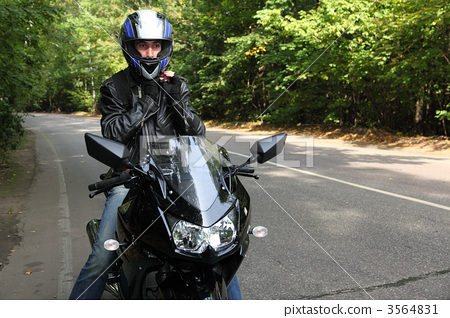helmet: (123, 12, 169, 73)
